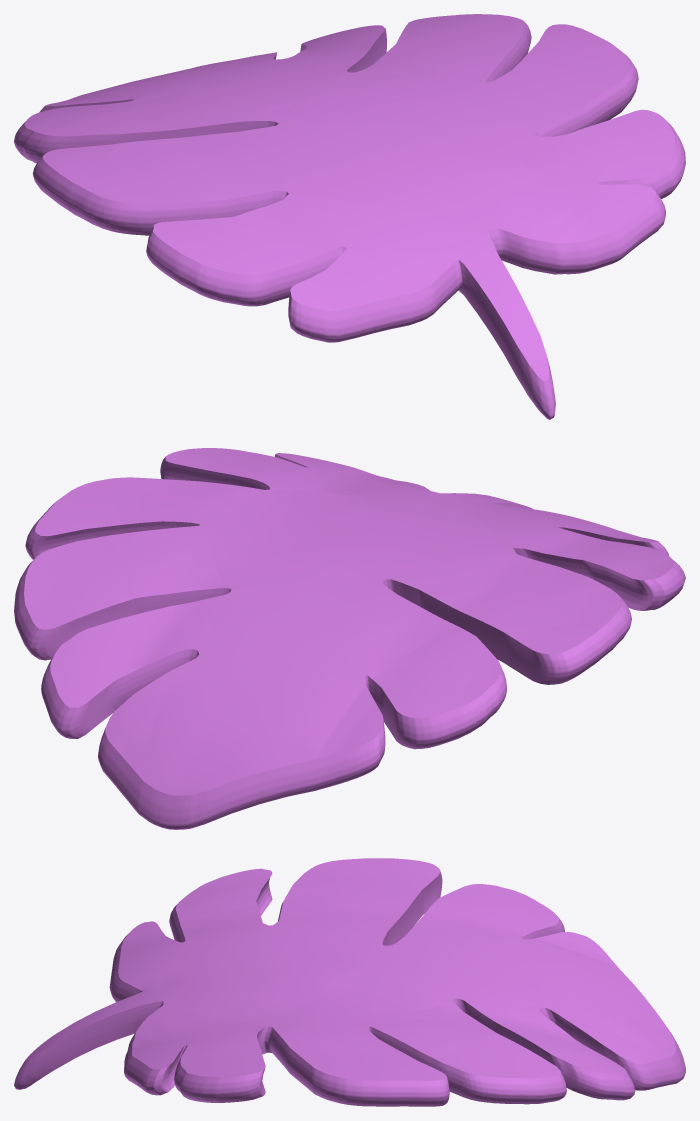
File: WanderLeaf.fbx
The picture shows the model from 3 angles, top to bottom: view 1: azimuth 30°, elevation 25°; view 2: azimuth 150°, elevation 25°; view 3: azimuth 270°, elevation 25°; orthographic projection. The views are drawn at different scales.
Parts seen in each view (by area): view 1: Leaf; view 2: Leaf; view 3: Leaf.
Part boxes in pixels (x1,y1,x2,y2): Leaf: [14, 14, 685, 419]; Leaf: [14, 448, 685, 829]; Leaf: [14, 858, 685, 1106].
Bounding box in the file's own units: 84.94 × 21.17 × 105.
